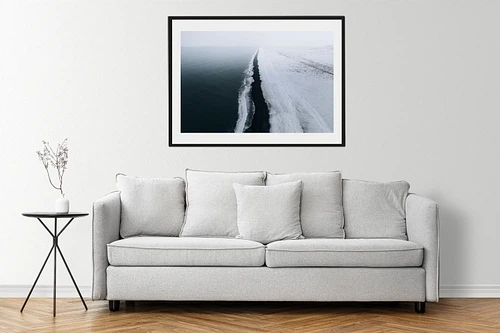flower vase: (35, 134, 74, 213)
side table: (18, 211, 90, 318)
sofa: (90, 161, 442, 315)
wall art: (166, 14, 348, 148)
